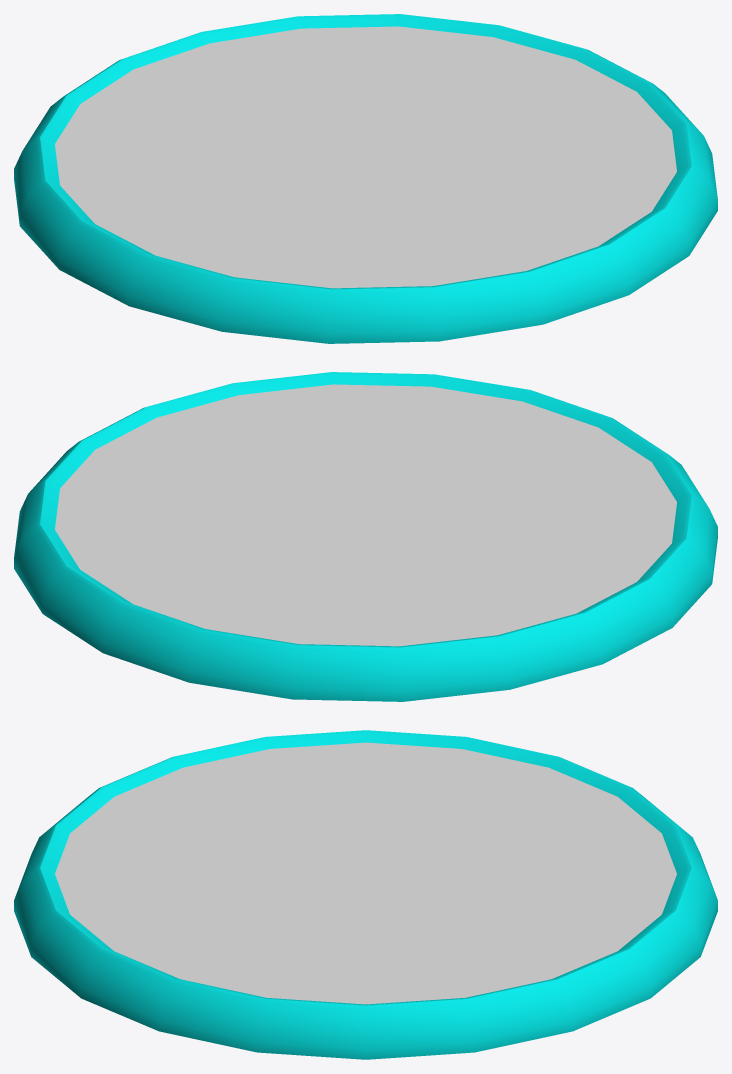
The picture shows the model from 3 angles, top to bottom: view 1: azimuth 30°, elevation 25°; view 2: azimuth 150°, elevation 25°; view 3: azimuth 270°, elevation 25°; orthographic projection.
Visible parts, largest first — view 1: Base; view 2: Base; view 3: Base.
Boxes of the visible parts, x1,y1,x2,y2 form: Base: (14,14,717,343); Base: (14,372,717,701); Base: (14,730,717,1059).
Size of the model in its own units: 39.95 by 2.7 by 39.95.
